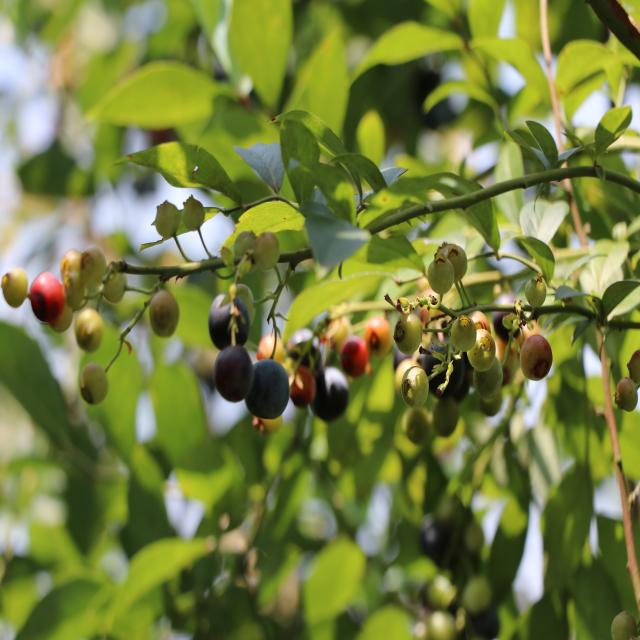blueberry: (246, 359, 290, 415), (212, 343, 254, 401), (205, 295, 251, 347), (424, 344, 463, 396), (311, 372, 348, 417)
blueberry-halfripe: (29, 270, 64, 326), (519, 335, 552, 380), (149, 291, 179, 336), (77, 362, 109, 404), (75, 309, 102, 354), (233, 231, 259, 274), (365, 314, 392, 354), (342, 338, 369, 376), (4, 264, 28, 306), (103, 262, 127, 303), (81, 245, 105, 285), (252, 234, 280, 268), (152, 204, 181, 236), (182, 200, 206, 228), (60, 249, 83, 278)
blueberry-unripe: (465, 328, 496, 371), (393, 310, 423, 354), (401, 364, 430, 408), (426, 255, 456, 296), (449, 312, 477, 353), (438, 244, 468, 281), (473, 362, 503, 398), (616, 375, 638, 415), (523, 277, 548, 306), (470, 310, 492, 336)
